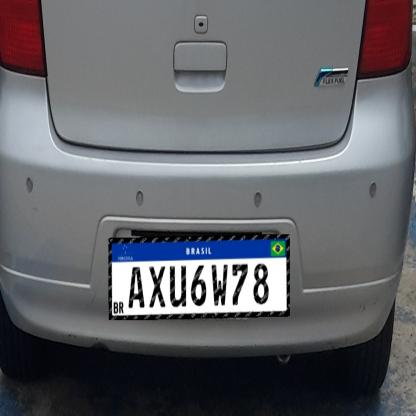PlacaM: (108, 234, 290, 320)
